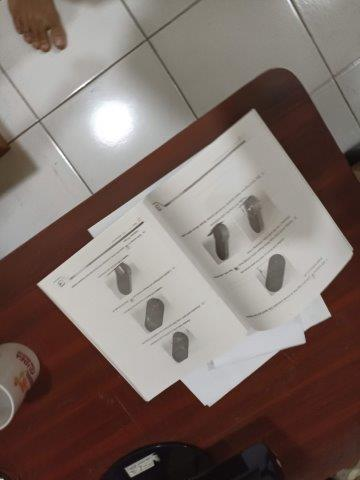kertas: (36, 109, 353, 405)
